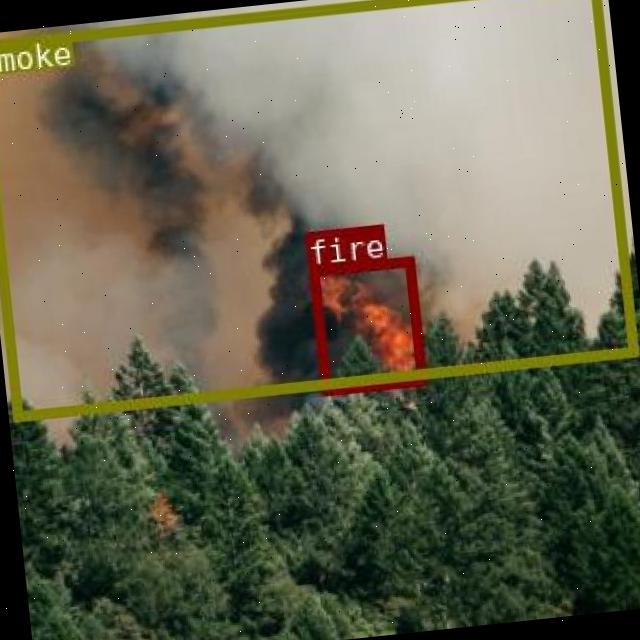fire: (308, 255, 424, 393)
smoke: (0, 0, 636, 419)
